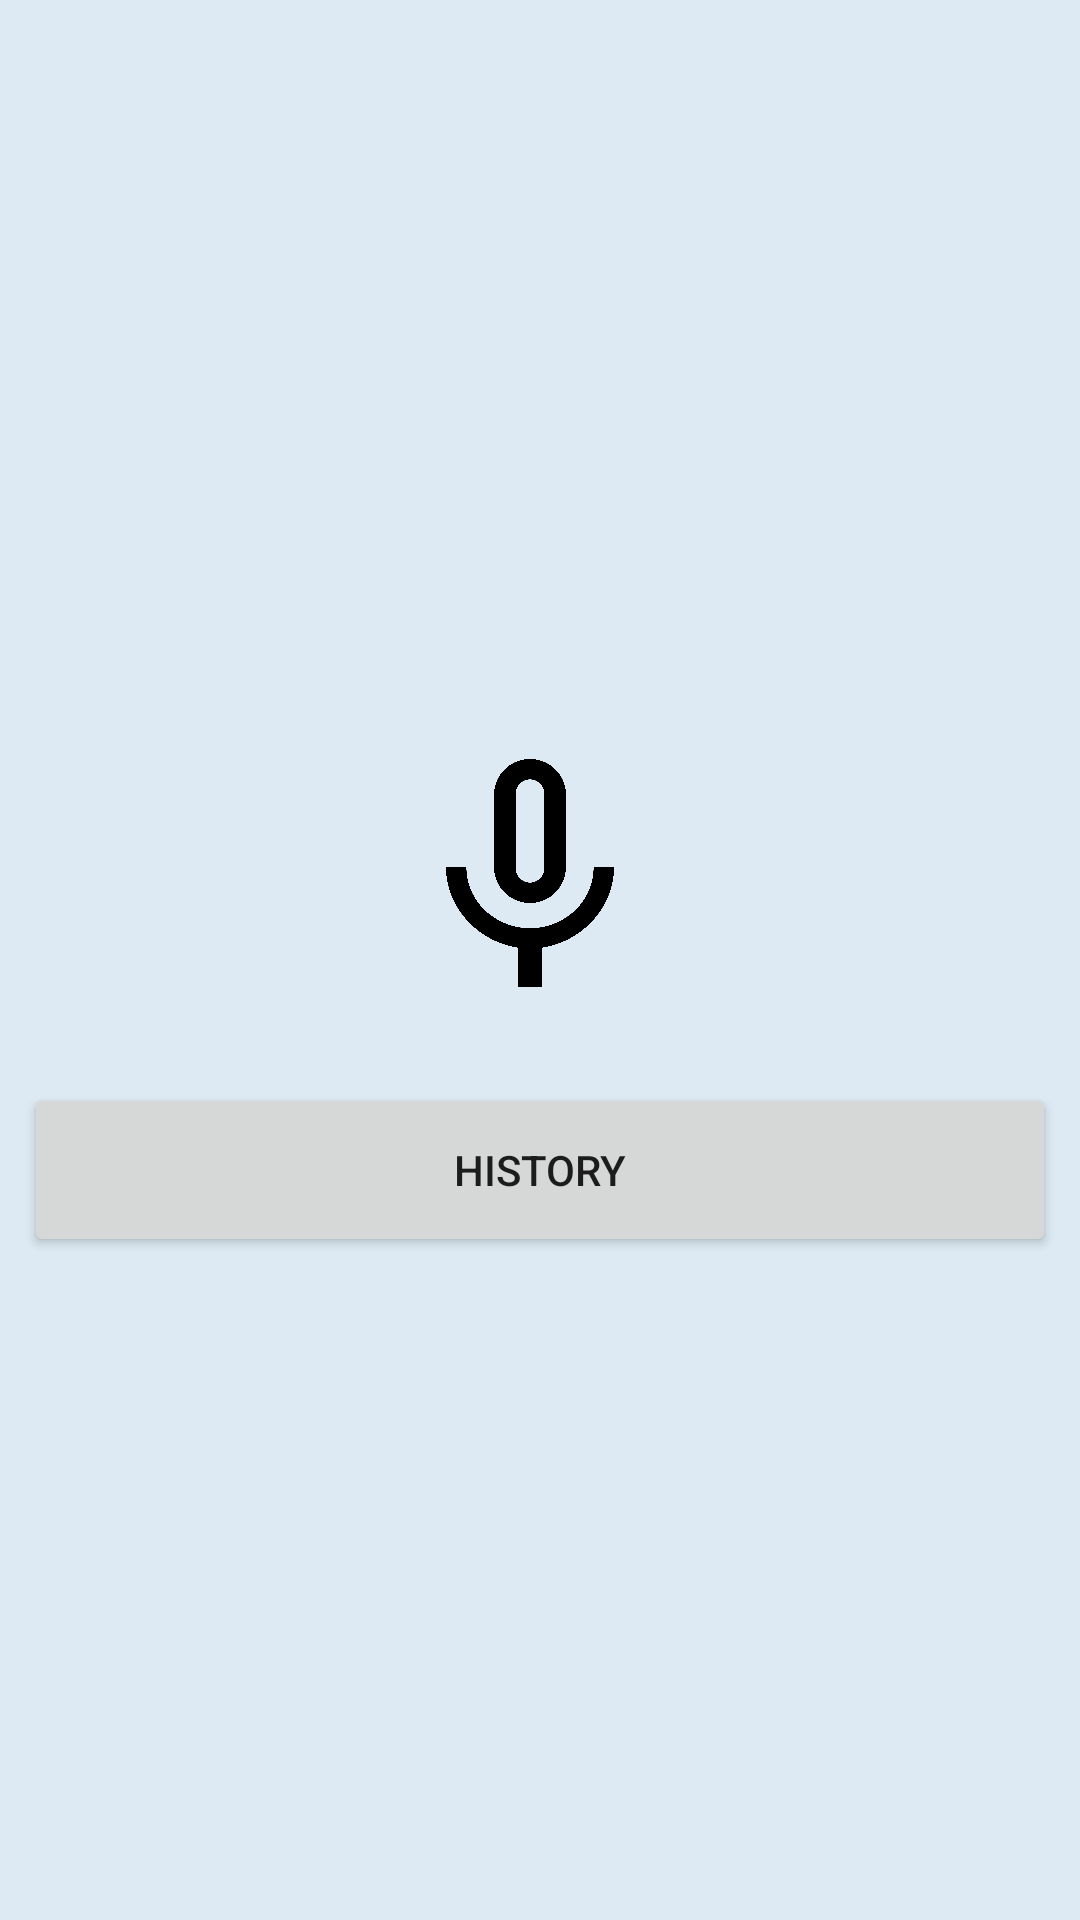

Icon bounding boxes for this 1080px×1920px phone screenshot, format box=[x1, y1, x2, y2]:
mic none: box=[446, 759, 614, 987]
